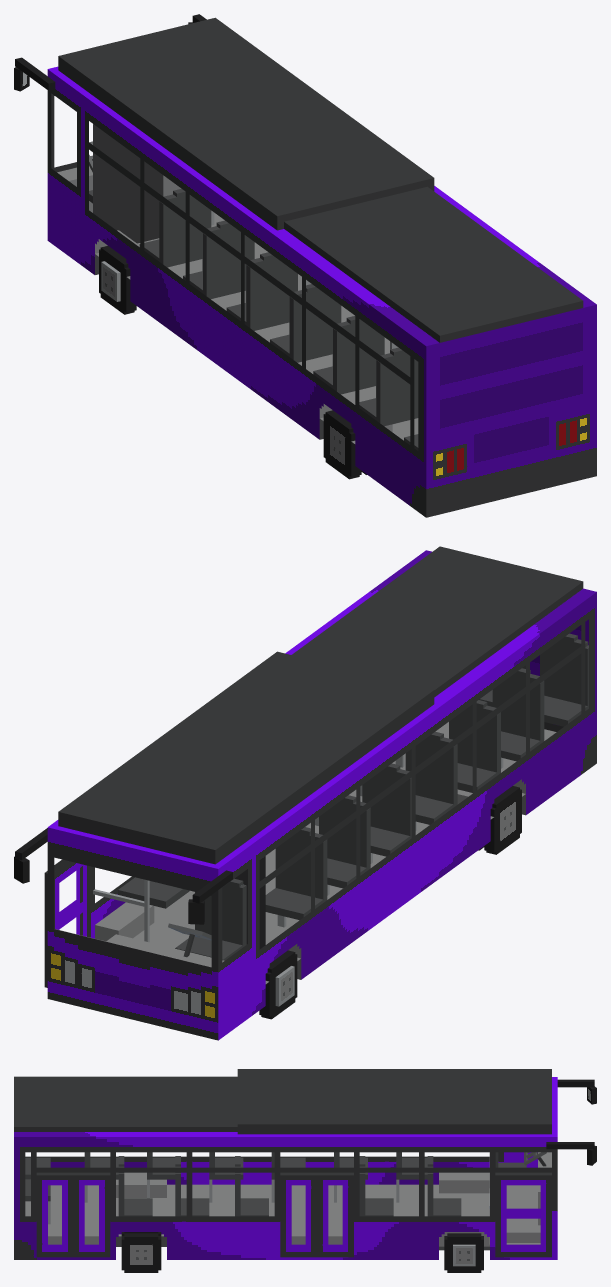
Rendered from eletric_bus_by_creepercoastal.glb.
3 views of the same model, one above another, from view 1: azimuth 30°, elevation 25°; view 2: azimuth 150°, elevation 25°; view 3: azimuth 270°, elevation 25° (orthographic). The views are drawn at different scales.
Parts seen in each view (by area): view 1: base_41, base1_42, base2_43, cube_79, basefloorinner_44, seat12_144, seat14_132, seat13_138, seat10_156, seat11_150, seat4_192, tire5_27; view 2: base_41, base1_42, base2_43, basefloorinner_44, door1_45, seat14_132, seat11_150, seat12_144, seat13_138, seat10_156, seat4_192, seat2_204 (+14 smaller); view 3: base_41, base1_42, base2_43, basefloorinner_44, door1_45, door5_49, door4_48, door2_46, door3_47, basefloorinner1_58, base4_55, tire2_15 (+20 smaller).
Part boxes in pixels (x1,y1,x2,y2): base_41: [47, 66, 596, 517]; base1_42: [58, 17, 434, 230]; base2_43: [284, 186, 583, 342]; cube_79: [93, 124, 163, 243]; basefloorinner_44: [95, 219, 418, 443]; seat12_144: [246, 260, 297, 324]; seat14_132: [159, 197, 211, 261]; seat13_138: [203, 228, 254, 292]; seat10_156: [333, 324, 384, 388]; seat11_150: [289, 292, 341, 356]; seat4_192: [376, 356, 418, 419]; tire5_27: [325, 416, 349, 475]; base_41: [47, 550, 596, 1040]; base1_42: [58, 651, 434, 864]; base2_43: [292, 546, 583, 697]; basefloorinner_44: [133, 722, 556, 983]; door1_45: [44, 861, 90, 987]; seat14_132: [275, 835, 327, 899]; seat11_150: [405, 740, 457, 804]; seat12_144: [362, 771, 411, 835]; seat13_138: [319, 803, 370, 867]; seat10_156: [449, 708, 500, 772]; seat4_192: [492, 676, 544, 740]; seat2_204: [540, 642, 588, 705]; base_41: [14, 1077, 557, 1259]; base1_42: [237, 1069, 551, 1134]; base2_43: [14, 1076, 237, 1131]; basefloorinner_44: [25, 1184, 489, 1236]; door1_45: [495, 1172, 551, 1257]; door5_49: [73, 1172, 110, 1257]; door4_48: [36, 1172, 73, 1257]; door2_46: [280, 1172, 316, 1257]; door3_47: [317, 1172, 353, 1257]; basefloorinner1_58: [506, 1185, 540, 1242]; base4_55: [439, 1172, 489, 1193]; tire2_15: [124, 1239, 158, 1270].
Bounding box in the file's own units: 3.48 × 3.56 × 12.87.
Materials: 1 (1 with a texture image).
